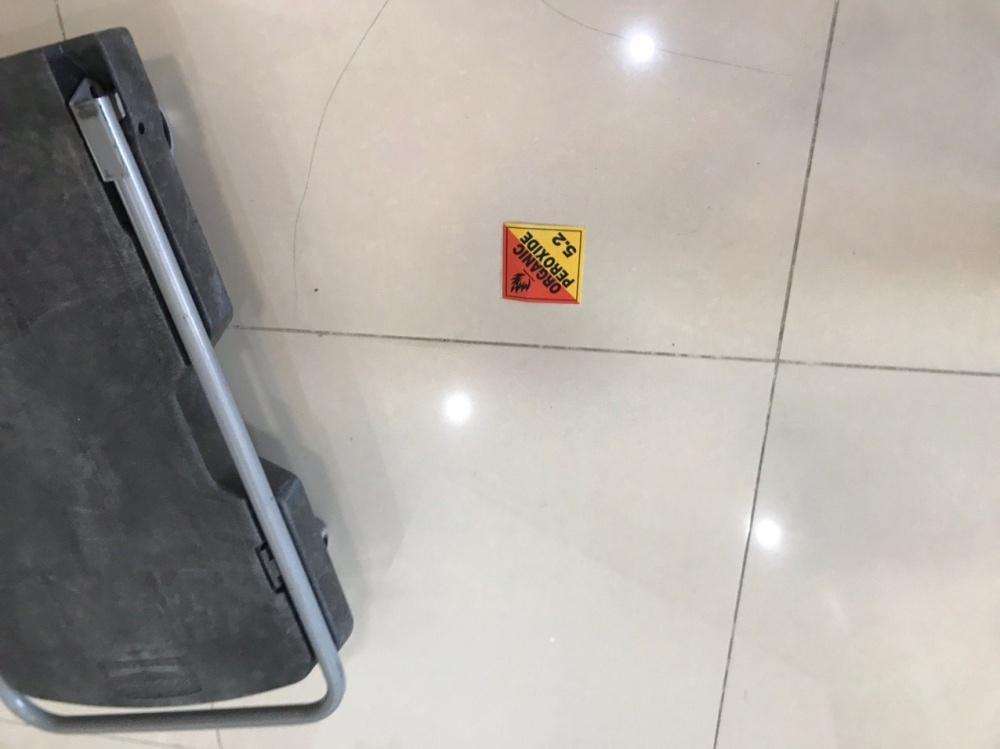organic-peroxide: (504, 223, 586, 304)
